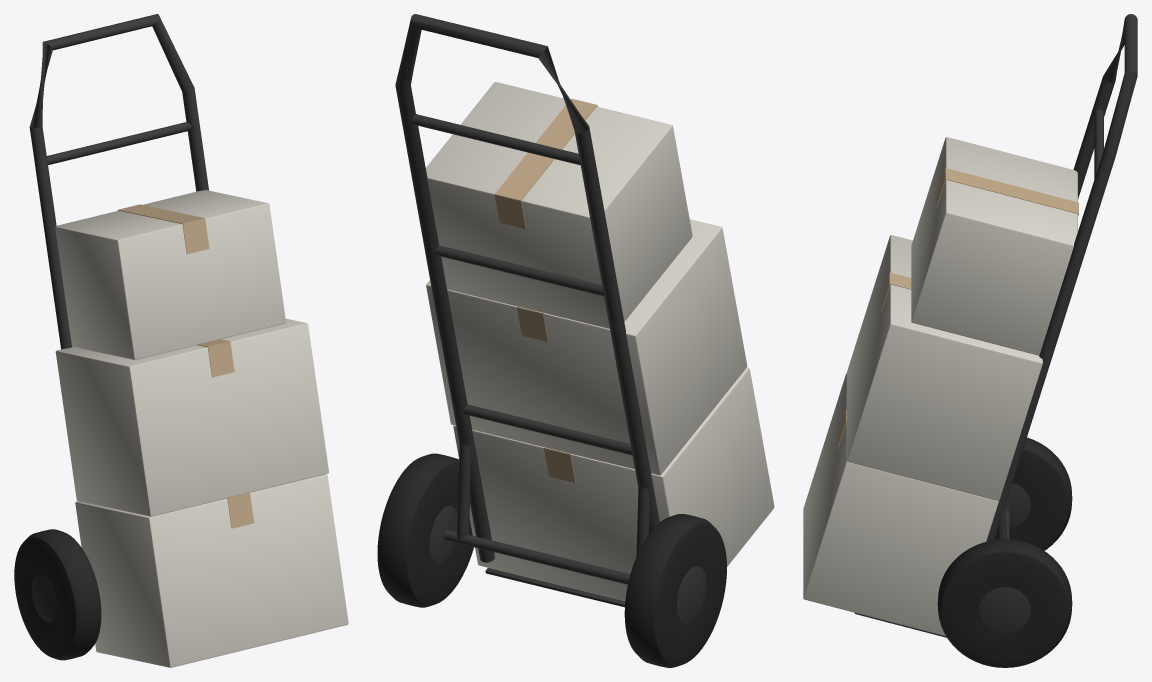
File: Kit_HandTruck_Cartons.fbx
3 views of the same model, side by side, from view 1: azimuth 30°, elevation 25°; view 2: azimuth 150°, elevation 25°; view 3: azimuth 270°, elevation 25° (orthographic). The views are drawn at different scales.
Visible parts, largest first — view 1: Kit_HandTruck_Cartons_LOD0; view 2: Kit_HandTruck_Cartons_LOD0; view 3: Kit_HandTruck_Cartons_LOD0.
Part boxes in pixels (x1,y1,x2,y2): Kit_HandTruck_Cartons_LOD0: [14, 14, 348, 667]; Kit_HandTruck_Cartons_LOD0: [377, 14, 774, 667]; Kit_HandTruck_Cartons_LOD0: [803, 14, 1137, 667].
Size of what is drawn, in the model's own units: 0.538 by 1.19 by 0.6313.
